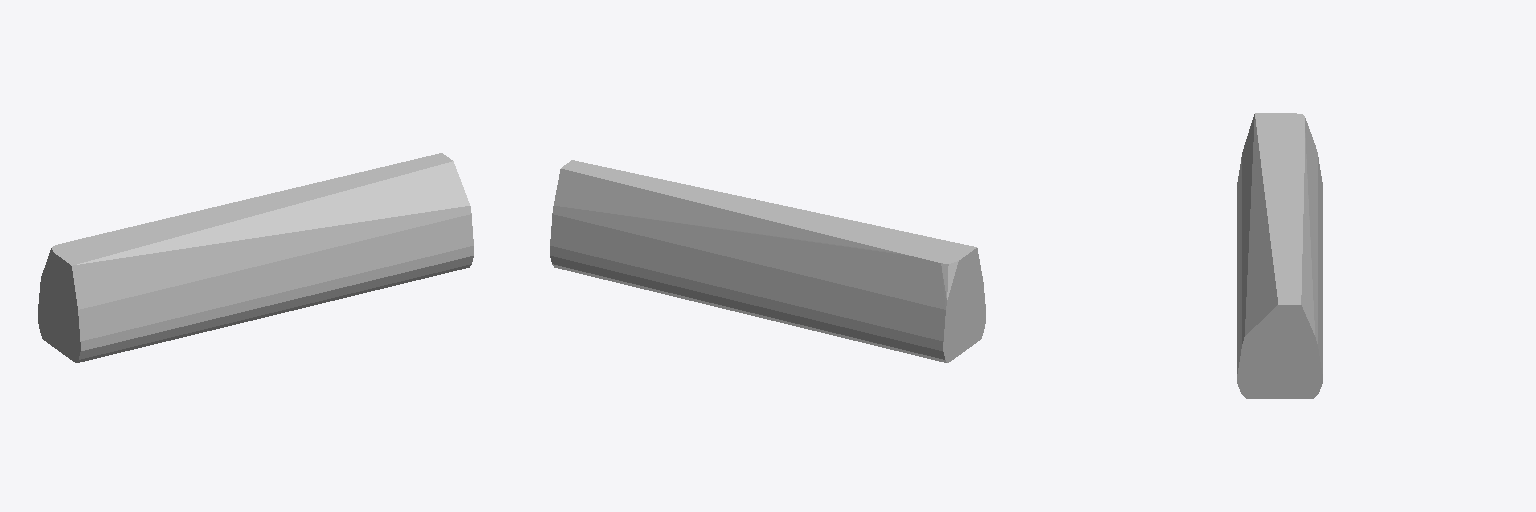
Rendered from Window_Slider_48x36_collision_5.obj.
The picture shows the model from 3 angles: view 1: azimuth 30°, elevation 25°; view 2: azimuth 150°, elevation 25°; view 3: azimuth 270°, elevation 25°; orthographic projection.
Bounding box in the file's own units: 0.5048 × 0.1163 × 0.0947.